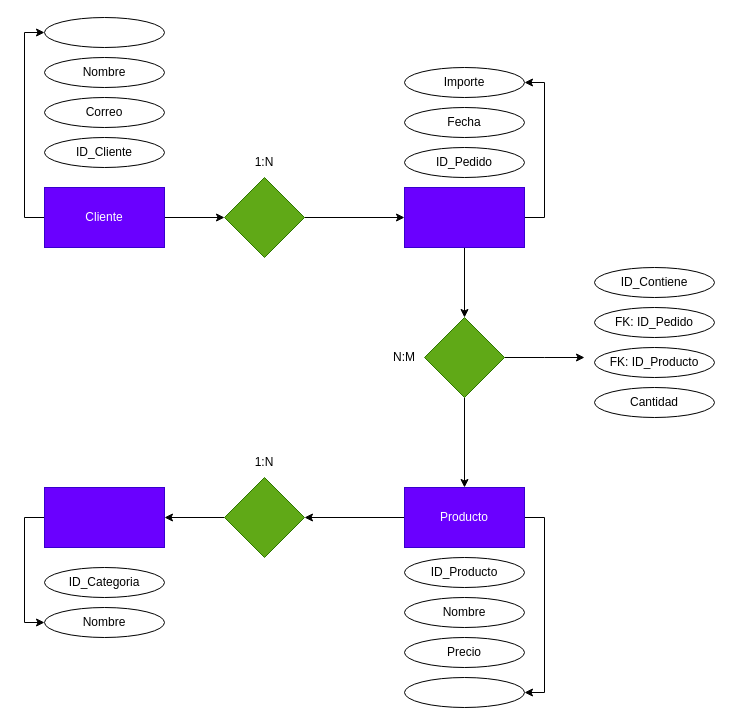
Some shapes in this 732 by 725 pixel diagram are drawn without their labels. The centre of each missing label's shape, as x and y in pixels:
Categoría: the point at 104,517
contiene: the point at 464,357
Dirección: the point at 104,32
Pedido: the point at 464,217
pertenece: the point at 264,517
realiza: the point at 264,217
Stock: the point at 464,692
